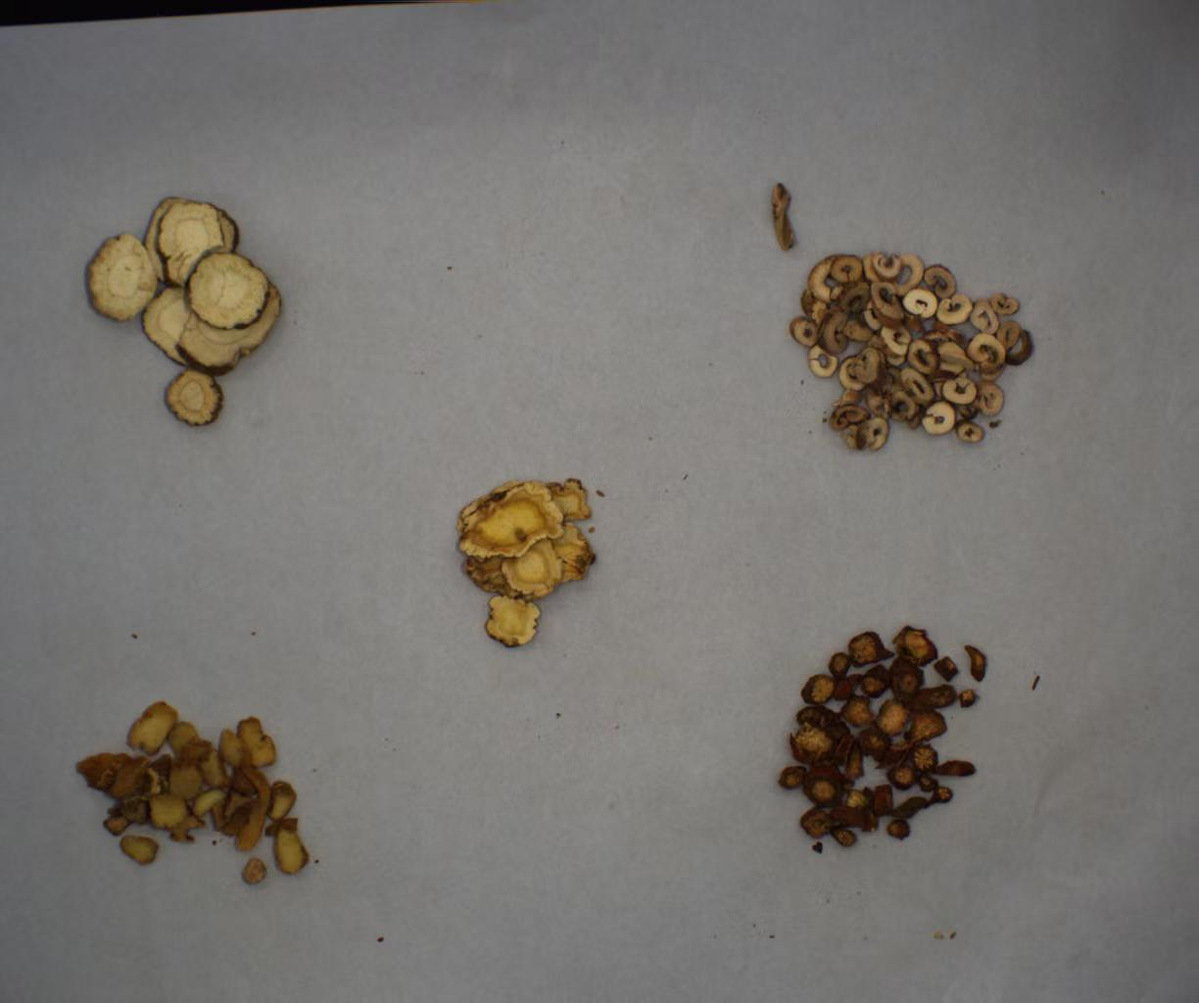baizhi: (63, 191, 286, 432)
danshen: (750, 610, 1000, 857)
jiegeng: (406, 451, 610, 654)
mudanpi: (738, 170, 1035, 460)
yuzhu: (38, 695, 326, 890)
